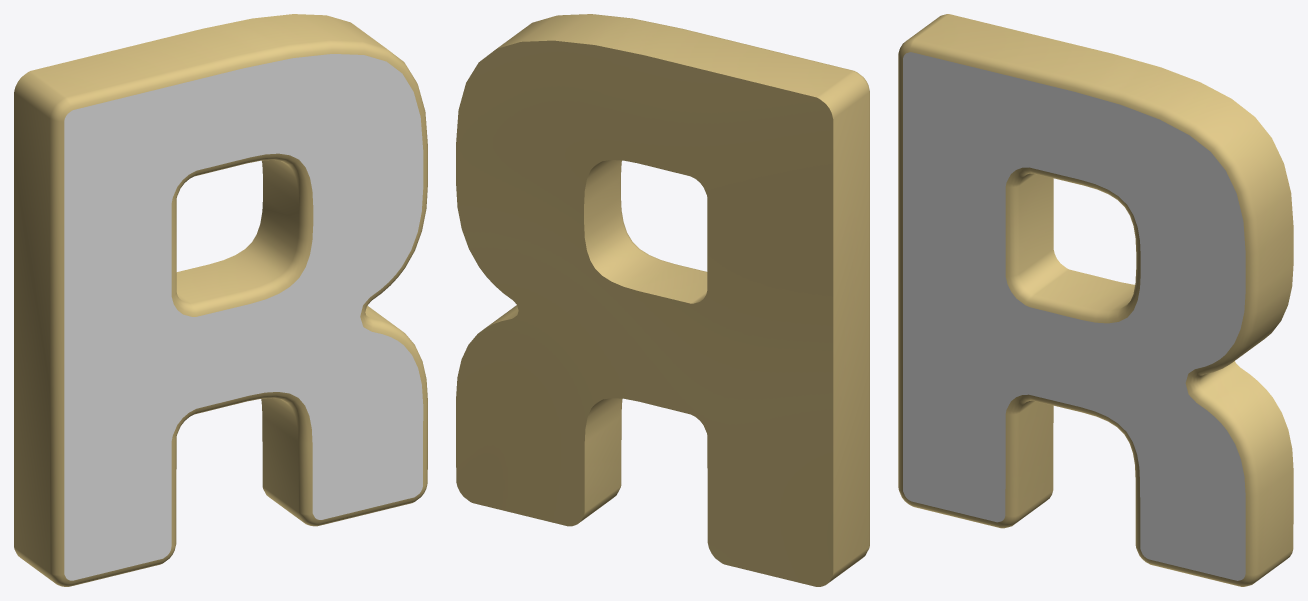
Rendered from LettersLightUp02_R.FBX.
The picture shows the model from 3 angles, left to right: view 1: azimuth 30°, elevation 25°; view 2: azimuth 150°, elevation 25°; view 3: azimuth 330°, elevation 25°; orthographic projection. The views are drawn at different scales.
Parts seen in each view (by area): view 1: LettersLightUp02_R; view 2: LettersLightUp02_R; view 3: LettersLightUp02_R.
Boxes of the visible parts, bbox=[...] form: LettersLightUp02_R: bbox=[14, 14, 427, 586]; LettersLightUp02_R: bbox=[456, 14, 869, 586]; LettersLightUp02_R: bbox=[898, 14, 1293, 586].
Size of what is drawn, in the model's own units: 0.4834 by 0.5998 by 0.0912.
